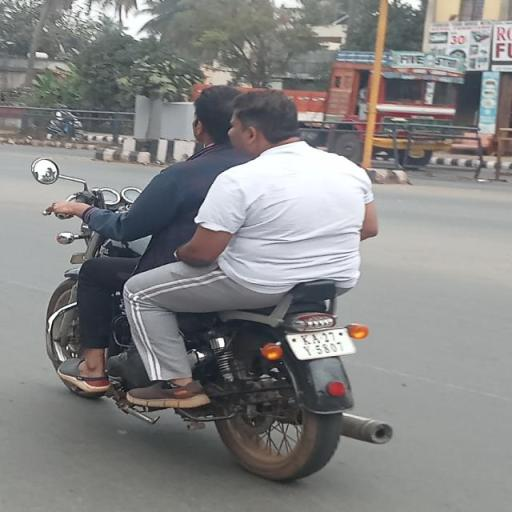bike: (23, 81, 411, 484)
numberplate: (280, 318, 354, 365)
withouthelmet: (232, 90, 296, 147), (194, 87, 228, 146)
